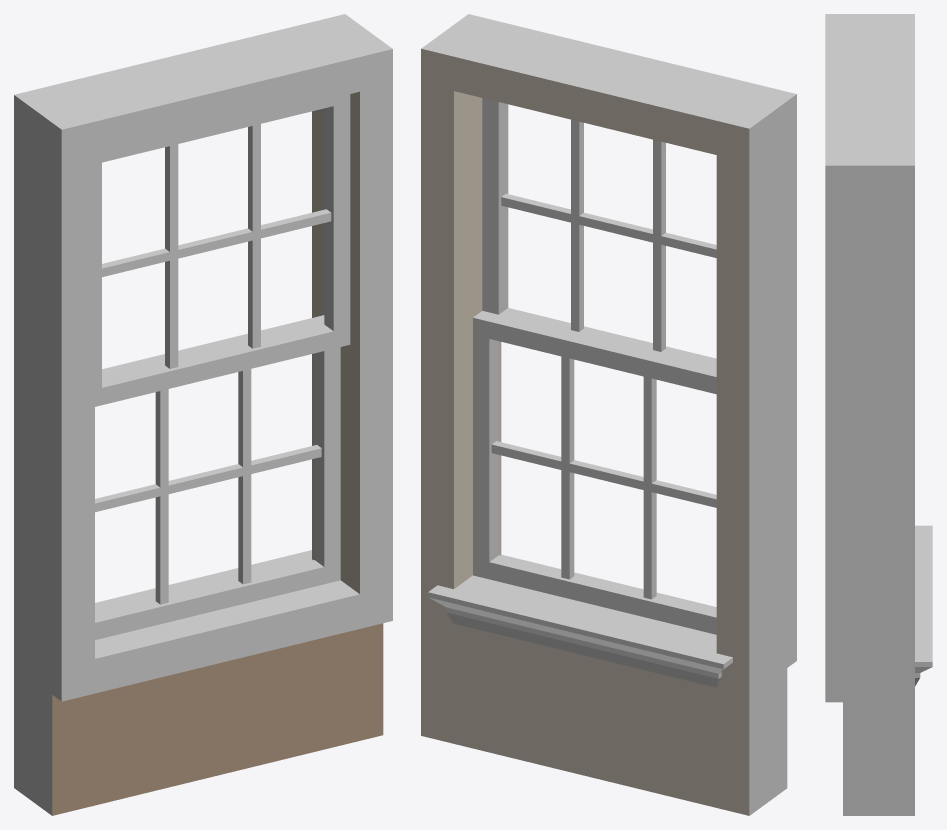
Rendered from Structure_Exterior_Window_Single.obj.
3 views of the same model, side by side, from view 1: azimuth 30°, elevation 25°; view 2: azimuth 150°, elevation 25°; view 3: azimuth 270°, elevation 25° (orthographic). The views are drawn at different scales.
Parts seen in each view (by area): view 1: object1, object2, object3; view 2: object1, object3, object2; view 3: object1.
Part boxes in pixels (x1,y1,x2,y2): object1: [14, 14, 392, 815]; object2: [95, 94, 350, 406]; object3: [95, 315, 340, 639]; object1: [421, 14, 796, 815]; object3: [473, 311, 716, 634]; object2: [482, 98, 716, 367]; object1: [825, 14, 932, 815].
Size of the model in its own units: 1 by 2 by 0.3.
